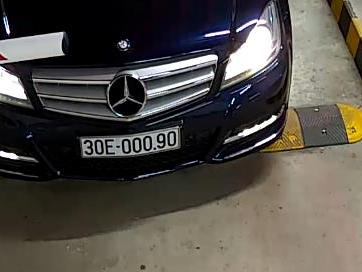car: (79, 127, 182, 162)
